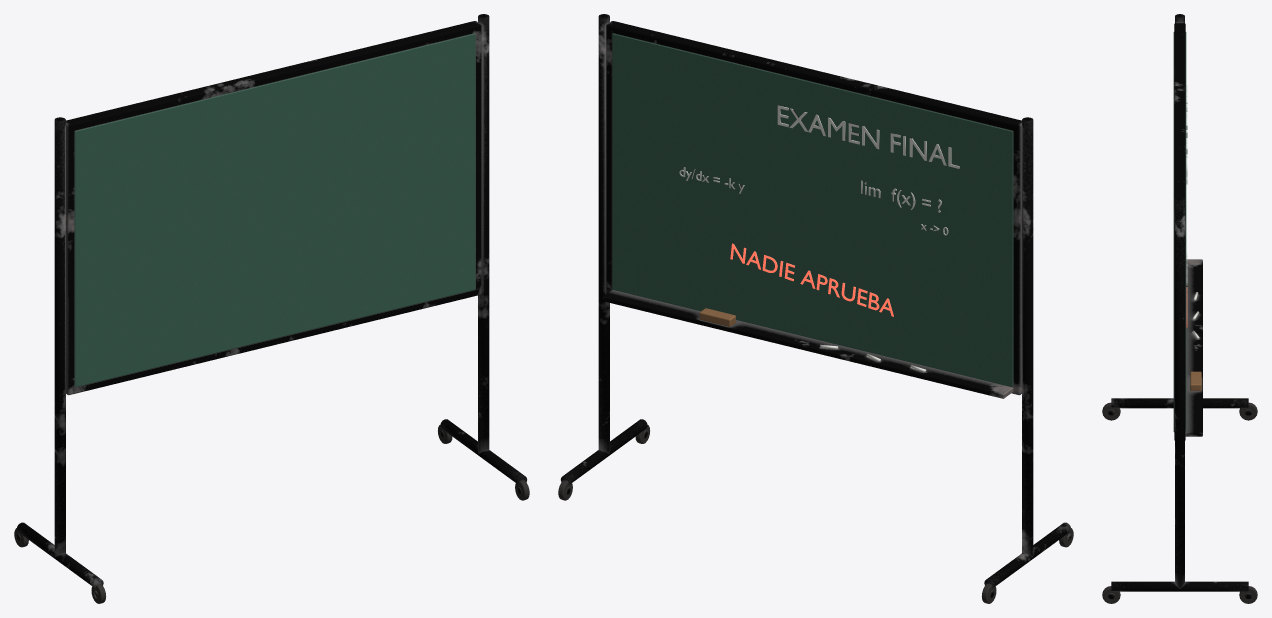
The model's file is pizarron.glb.
3 views of the same model, side by side, from view 1: azimuth 30°, elevation 25°; view 2: azimuth 150°, elevation 25°; view 3: azimuth 270°, elevation 25° (orthographic). The views are drawn at different scales.
Parts seen in each view (by area): view 1: pizarron; view 2: pizarron; view 3: pizarron.
Part boxes in pixels (bbox=[...]): pizarron: bbox=[14, 14, 529, 603]; pizarron: bbox=[558, 14, 1073, 603]; pizarron: bbox=[1102, 14, 1257, 603].
Size of the model in its own units: 1.94 by 1.95 by 0.68.
Materials: 2 (1 with a texture image).
